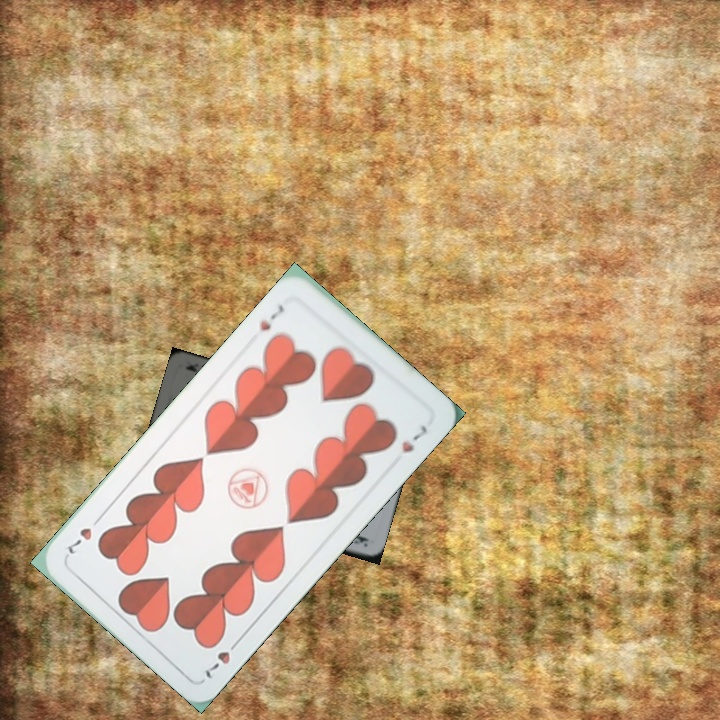H7: (200, 633, 244, 682), (256, 300, 288, 334)
